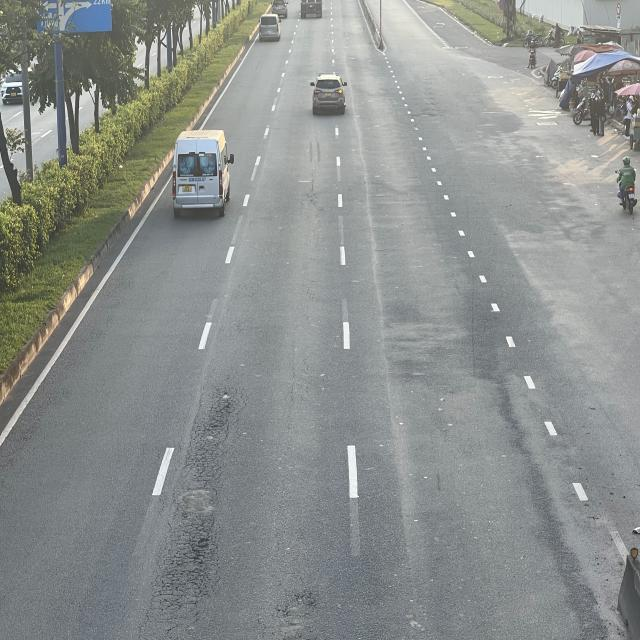car: (310, 73, 346, 116), (259, 14, 280, 41)
van: (172, 129, 234, 215)
